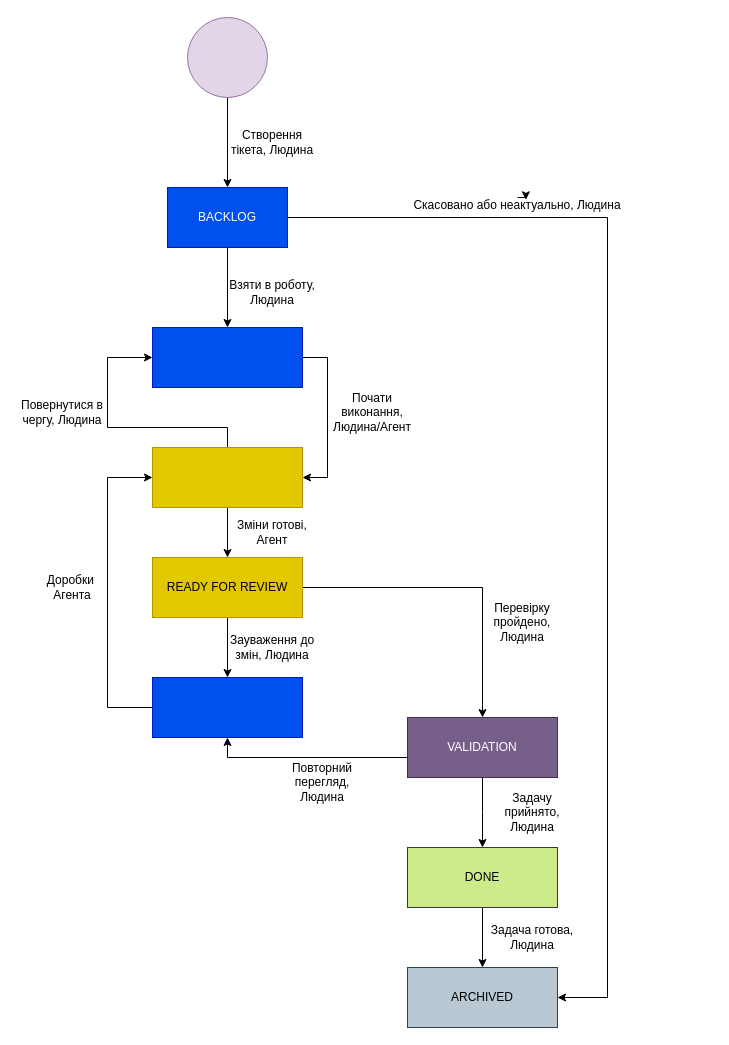
The diagram is 729 pixels wide and 1045 high, and some of its shapes have lost their labels. The shapes that lost their labels are listed below. From the top down, each one's box as (x1, y1, x2, y2) in pixels, then its label:
(152, 326, 302, 388): SELECTED FOR WORK
(152, 446, 302, 508): IN PROGRESS
(152, 676, 302, 738): REOPENED
